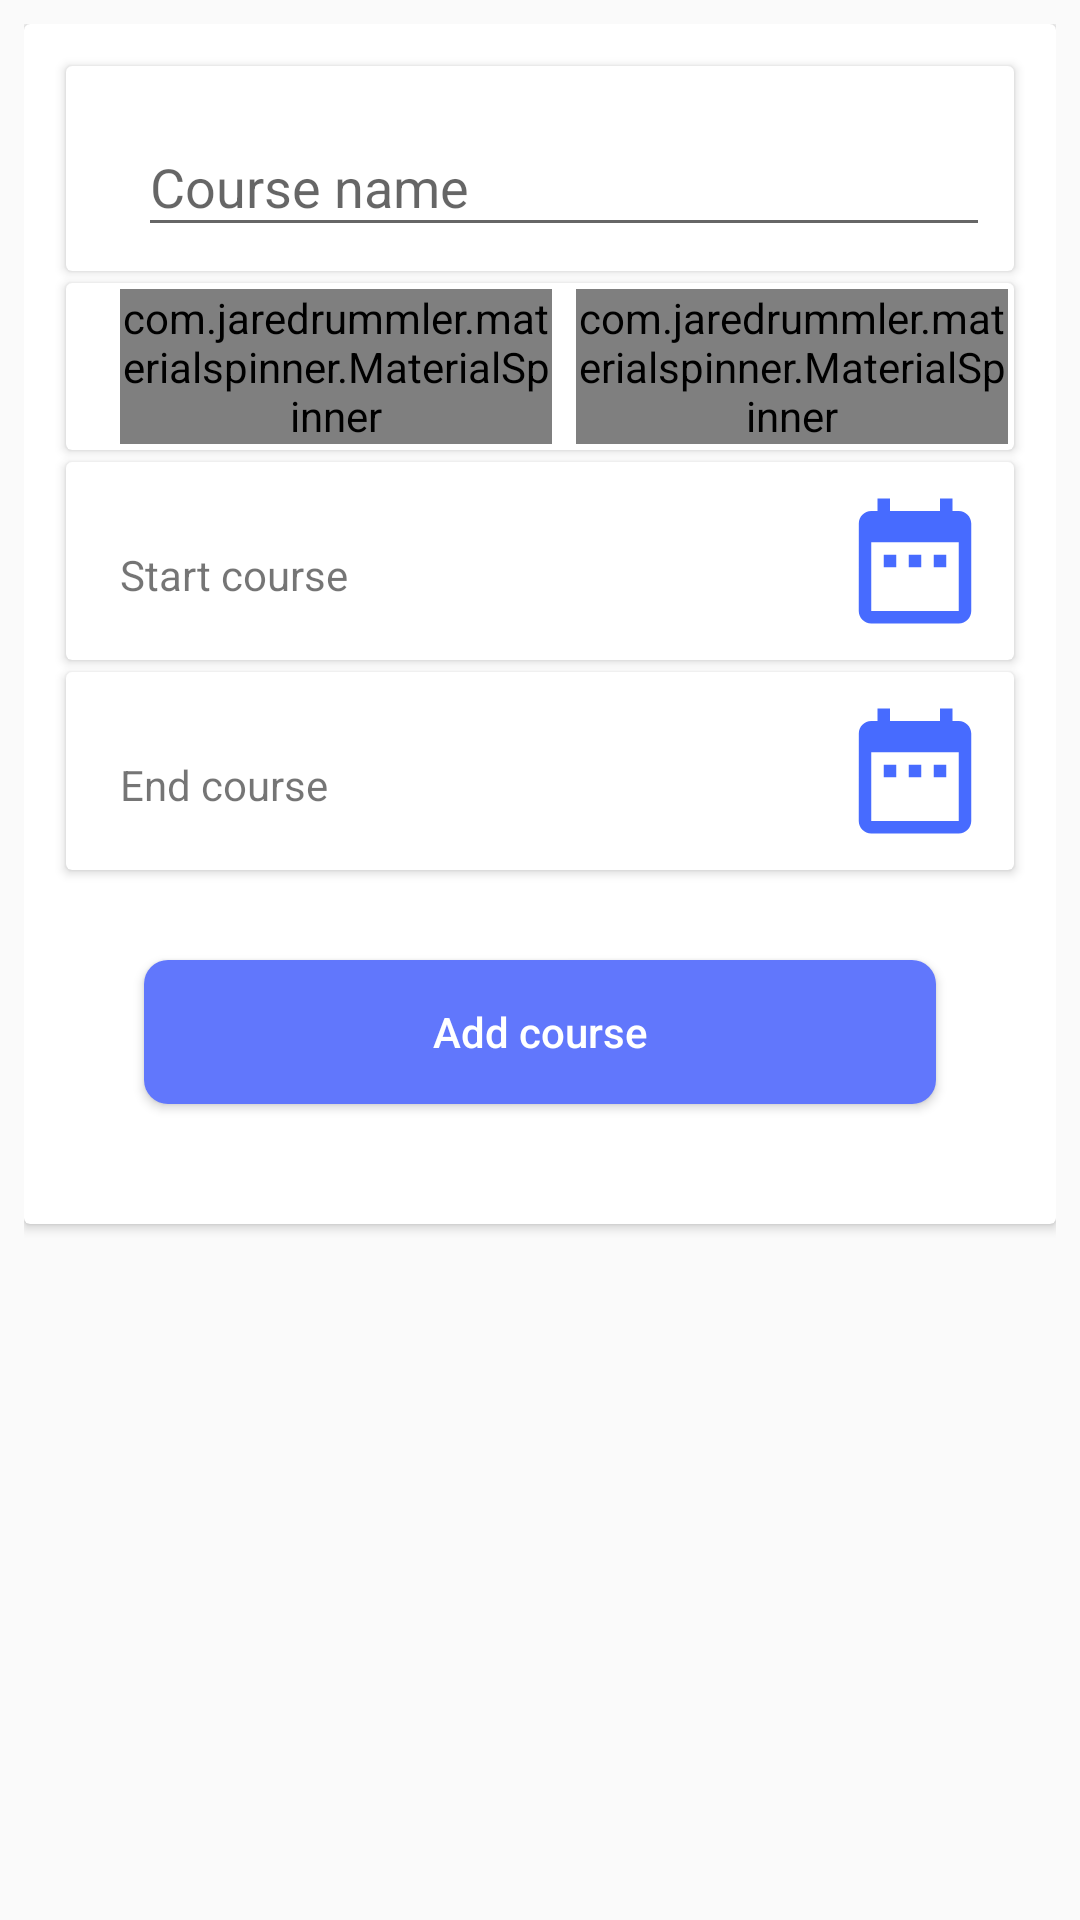

Icon bounding boxes for this 1080×1920 phone screenshot, format (x1, y1, x2, y2):
date range: (858, 498, 972, 624), (858, 708, 972, 834)
